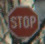stopsign: (7, 4, 40, 40)
